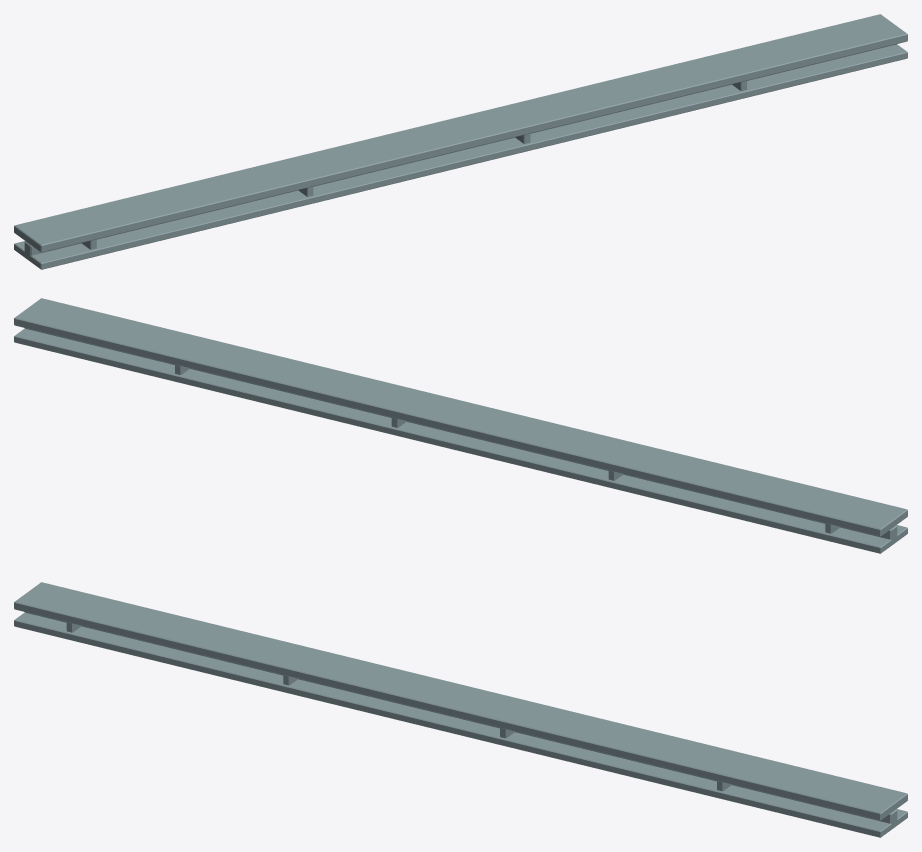
File: RoadPlan_DeckStructure_L8_Girder_-1.glb
3 renders of one model, top to bottom at view 1: azimuth 30°, elevation 25°; view 2: azimuth 150°, elevation 25°; view 3: azimuth 330°, elevation 25°, orthographic.
Visible parts, largest first — view 1: RoadPlan_DeckStructure_L8_Girder_-1; view 2: RoadPlan_DeckStructure_L8_Girder_-1; view 3: RoadPlan_DeckStructure_L8_Girder_-1.
Boxes of the visible parts, left/top/right/bottom form: RoadPlan_DeckStructure_L8_Girder_-1: left=14, top=14, right=907, bottom=269; RoadPlan_DeckStructure_L8_Girder_-1: left=14, top=298, right=907, bottom=553; RoadPlan_DeckStructure_L8_Girder_-1: left=14, top=582, right=907, bottom=837.
Size of the model in its own units: 8 by 0.22 by 0.44.
